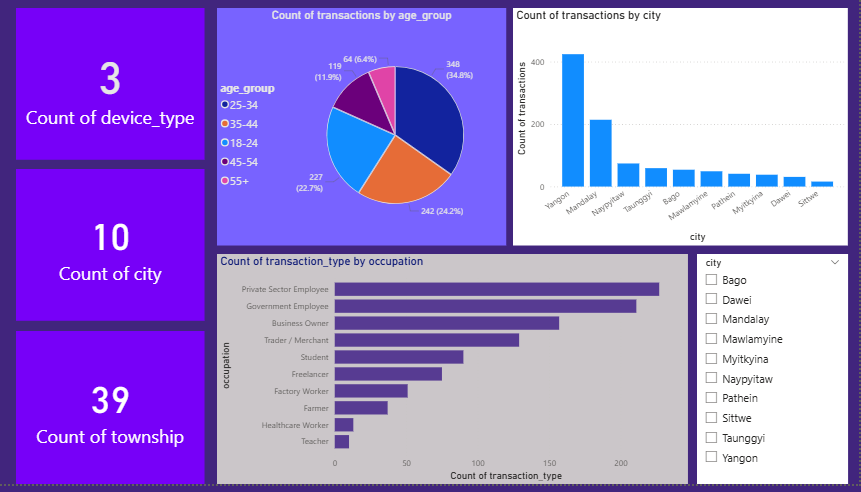

Layout of this report page (visuals, bound fields, positions):
{"tool":"powerbi","page":{"name":"Page 1","canvas":[1280,720],"ordinal":0},"visuals":[{"type":"card","fields":{"Values":["Count(myanmar_mobile_money_transactions.device_type)"]},"box":[42,20.2,277.2,223.4],"z":0},{"type":"card","fields":{"Values":["Count(myanmar_mobile_money_transactions.city)"]},"box":[42,257,277.2,223.4],"z":1000},{"type":"pieChart","fields":{"Category":["myanmar_mobile_money_transactions.age_group"],"Y":["CountNonNull(myanmar_mobile_money_transactions.transactions)"]},"box":[337.6,20.2,425,349.4],"z":2000},{"type":"clusteredColumnChart","fields":{"Y":["CountNonNull(myanmar_mobile_money_transactions.transactions)"],"Category":["myanmar_mobile_money_transactions.city"]},"box":[772.7,20.2,492.2,349.4],"z":3000},{"type":"clusteredBarChart","fields":{"Category":["myanmar_mobile_money_transactions.occupation"],"Y":["CountNonNull(myanmar_mobile_money_transactions.transaction_type)"]},"box":[338,382,692.1,338],"z":4000},{"type":"card","fields":{"Values":["Count(myanmar_mobile_money_transactions.township)"]},"box":[42,494.9,277.2,225.1],"z":5000},{"type":"slicer","fields":{"Values":["myanmar_mobile_money_transactions.city"]},"box":[1043.3,382,221.9,338],"z":6000}]}

Visuals, with their boxes in screenshot pixels (x1, y1, x2, y2), scaled from the page's 1280x720 canvas onto the 861x492 screenshot:
card - Count(myanmar_mobile_money_transactions.device_type): BBox(28, 14, 215, 166)
card - Count(myanmar_mobile_money_transactions.city): BBox(28, 176, 215, 328)
pieChart - myanmar_mobile_money_transactions.age_group x CountNonNull(myanmar_mobile_money_transactions.transactions): BBox(227, 14, 513, 253)
clusteredColumnChart - CountNonNull(myanmar_mobile_money_transactions.transactions) x myanmar_mobile_money_transactions.city: BBox(520, 14, 851, 253)
clusteredBarChart - myanmar_mobile_money_transactions.occupation x CountNonNull(myanmar_mobile_money_transactions.transaction_type): BBox(227, 261, 693, 491)
card - Count(myanmar_mobile_money_transactions.township): BBox(28, 338, 215, 491)
slicer - myanmar_mobile_money_transactions.city: BBox(702, 261, 851, 491)
